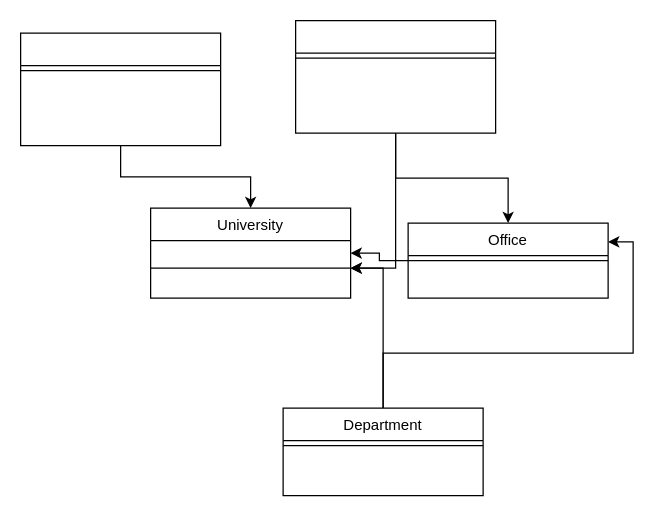
The diagram is 654 pixels wide and 516 high, and some of its shapes have lost their labels. Each missing label, with the centre of its shape:
Class: pixel 120 89
Employee: pixel 395 76
